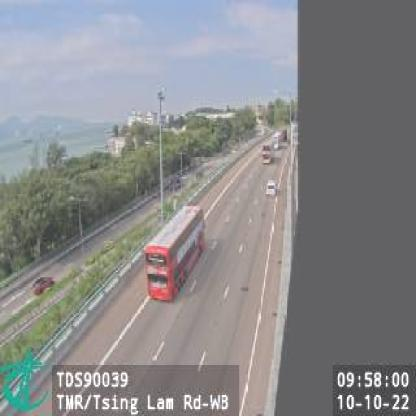Bus: (145, 203, 206, 302), (263, 141, 272, 164)
Car: (32, 276, 53, 297), (264, 179, 277, 196)
